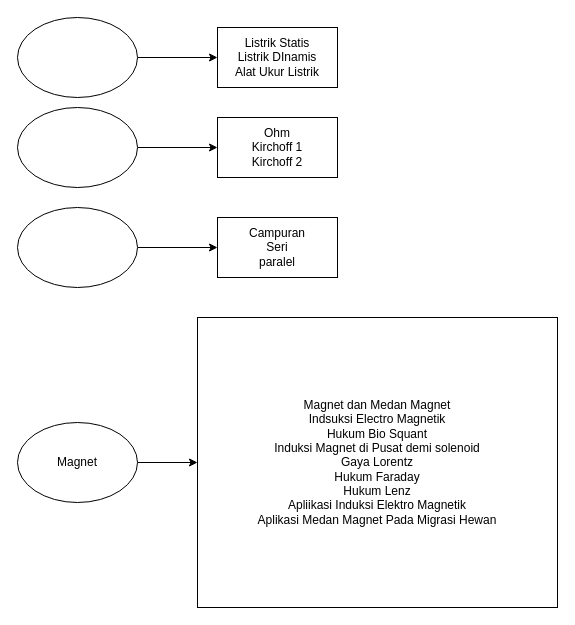
The diagram is 575 pixels wide and 625 high, and some of its shapes have lost their labels. The shapes that lost their labels are listed below. From the top down, each one's box as (x1, y1, x2, y2) in pixels, then its label:
(16, 16, 138, 98): Kelistrikan
(16, 106, 138, 188): Hukum-Hukum Listrik
(16, 206, 138, 288): Rangkaian Listrik
